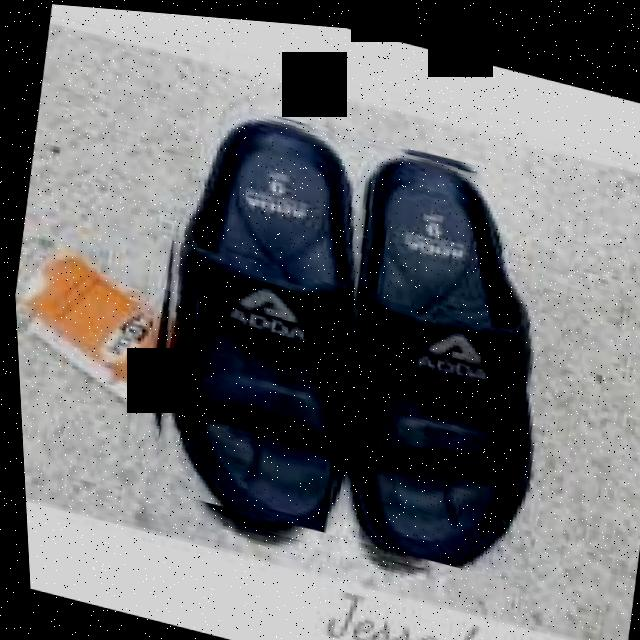shoe: (115, 84, 577, 595), (293, 129, 593, 582), (113, 84, 390, 532)
